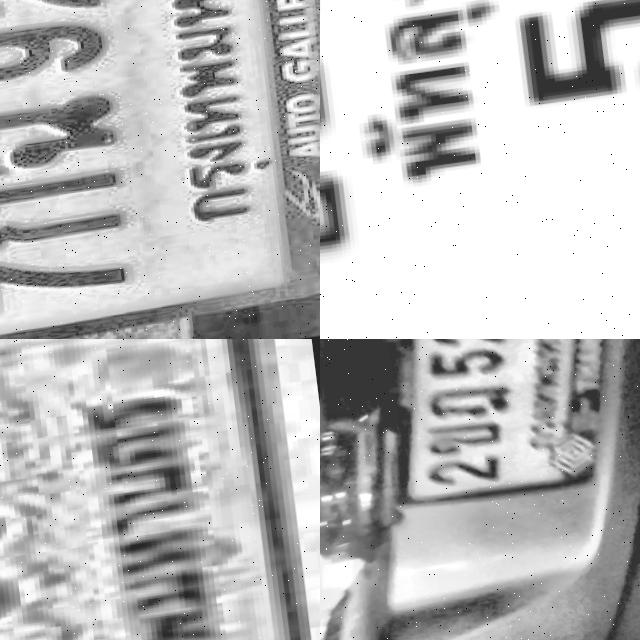license-plate: (0, 0, 320, 339), (320, 0, 640, 339), (0, 339, 320, 640), (413, 339, 575, 501)
